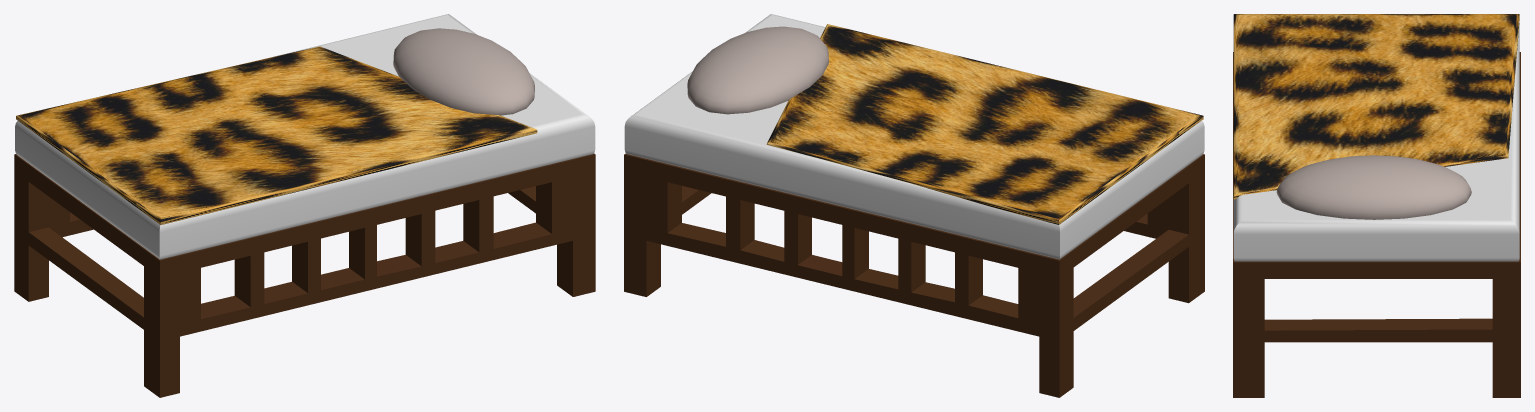
Rendered from bedtextured.fbx.
3 renders of one model, left to right at view 1: azimuth 30°, elevation 25°; view 2: azimuth 150°, elevation 25°; view 3: azimuth 270°, elevation 25°, orthographic.
Parts seen in each view (by area): view 1: polySurface4, polySurface1, polySurface3, pSphere1; view 2: polySurface4, polySurface1, polySurface3, pSphere1; view 3: polySurface4, polySurface1, polySurface3, pSphere1.
Part boxes in pixels (x1,y1,x2,y2): polySurface4: [16, 46, 537, 224]; polySurface1: [14, 153, 595, 397]; polySurface3: [15, 14, 595, 259]; pSphere1: [393, 28, 534, 115]; polySurface4: [766, 24, 1203, 224]; polySurface1: [624, 153, 1204, 397]; polySurface3: [624, 14, 1204, 259]; pSphere1: [687, 26, 828, 114]; polySurface4: [1233, 14, 1519, 199]; polySurface1: [1233, 52, 1520, 397]; polySurface3: [1233, 23, 1519, 261]; pSphere1: [1276, 155, 1471, 219].
Size of the model in its own units: 8 by 3.62 by 4.63.
